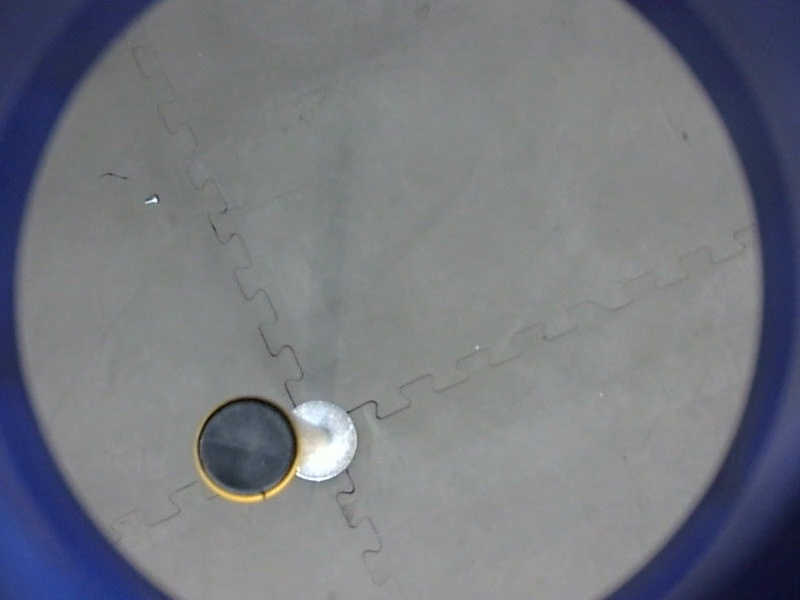tip: (186, 387, 309, 509)
